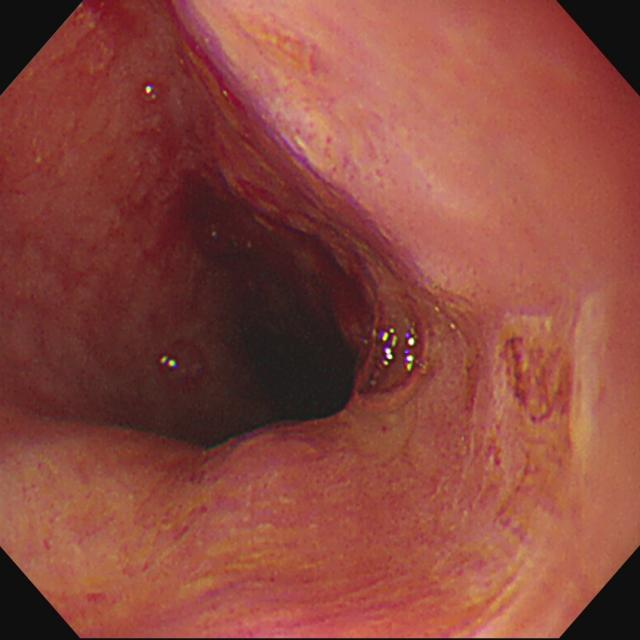A: (218, 130, 365, 276), (183, 418, 360, 531), (462, 325, 582, 474)
C: (179, 17, 249, 119)
E: (247, 301, 356, 423)
U: (381, 326, 398, 367), (404, 331, 416, 373), (159, 358, 178, 370)
